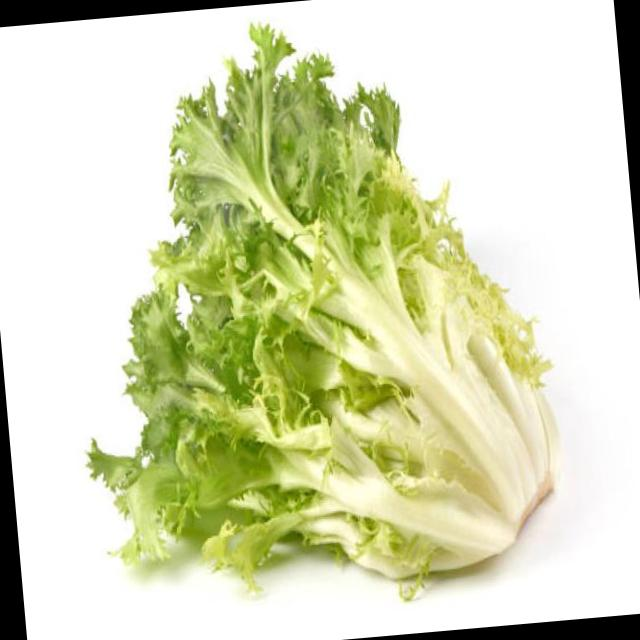Lettuce-Ready-to-Harvest: (84, 23, 563, 603)
